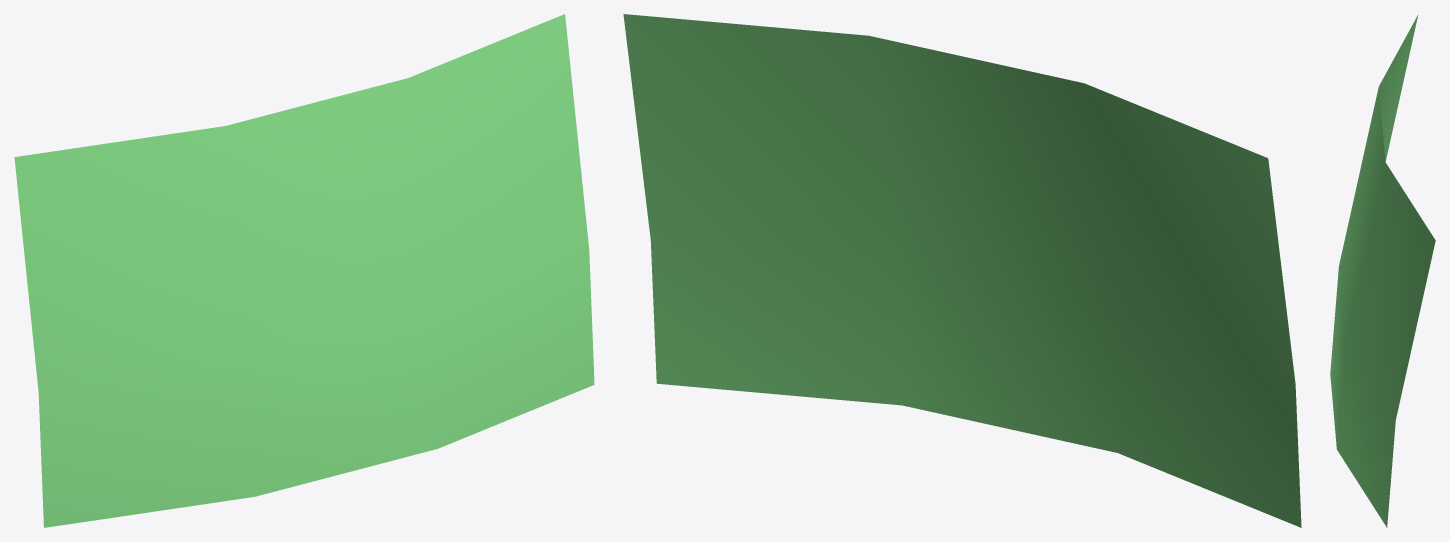
File: GrassPlane_a_TwoS_05.fbx
3 views of the same model, side by side, from view 1: azimuth 30°, elevation 25°; view 2: azimuth 150°, elevation 25°; view 3: azimuth 270°, elevation 25° (orthographic). The views are drawn at different scales.
Visible parts, largest first — view 1: GrassPlane_a_TwoS_05; view 2: GrassPlane_a_TwoS_05; view 3: GrassPlane_a_TwoS_05.
Part boxes in pixels (x1=…): GrassPlane_a_TwoS_05: x1=14, y1=14, x2=594, y2=527; GrassPlane_a_TwoS_05: x1=623, y1=14, x2=1301, y2=527; GrassPlane_a_TwoS_05: x1=1330, y1=15, x2=1435, y2=527.
Bounding box in the file's own units: 83.05 × 50.04 × 16.42.
